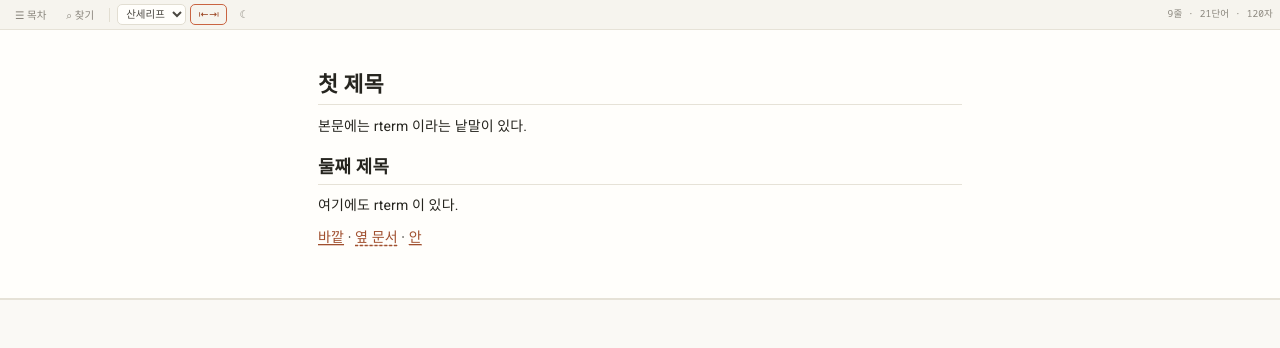
문서 안에서 찾기 › 찾기를 켜고 낱말을 넣으면 자리를 표시하고 개수를 센다
Click the button "⌕ 찾기": [80, 14] box [58, 4, 102, 25]
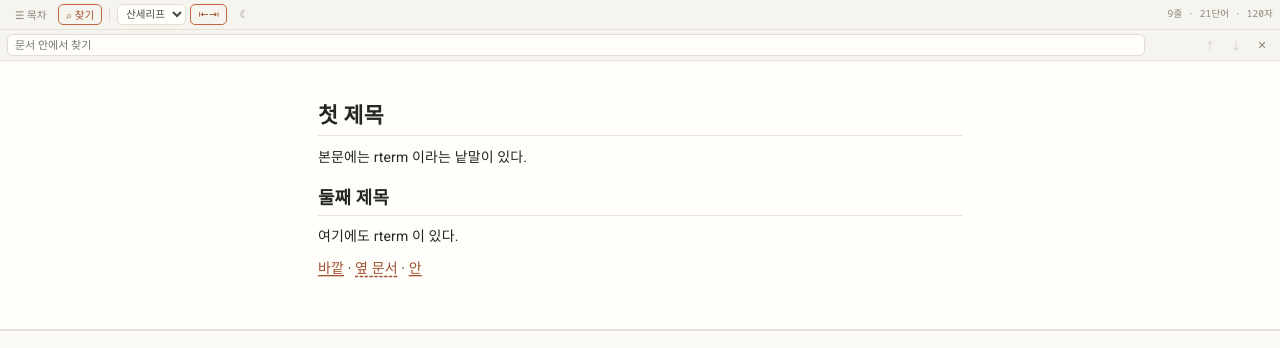
In the field with class "md-find__input": [576, 45] box [7, 34, 1145, 56], type "rterm"
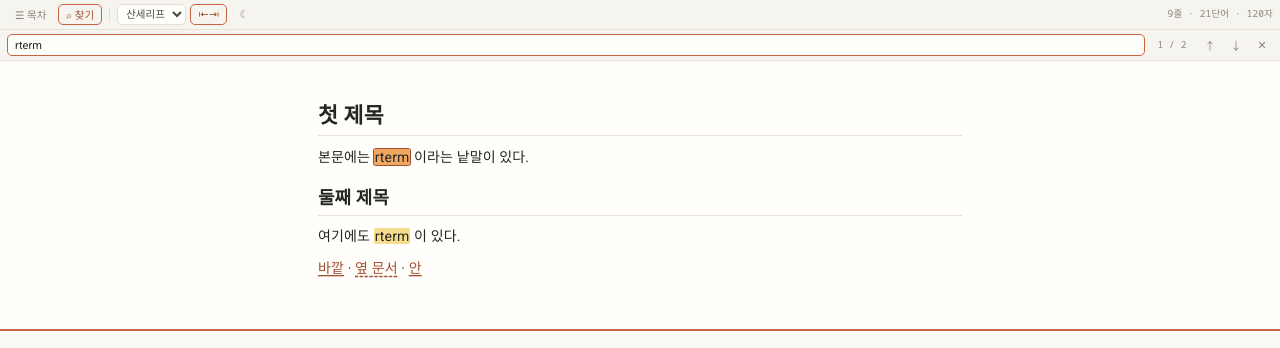
Now the number of elements with class "md-hit" is 2, box [374, 149, 410, 165]; [374, 228, 410, 244]
Now the text with class "md-find__count" reads "1 / 2", box [1157, 38, 1187, 51]
